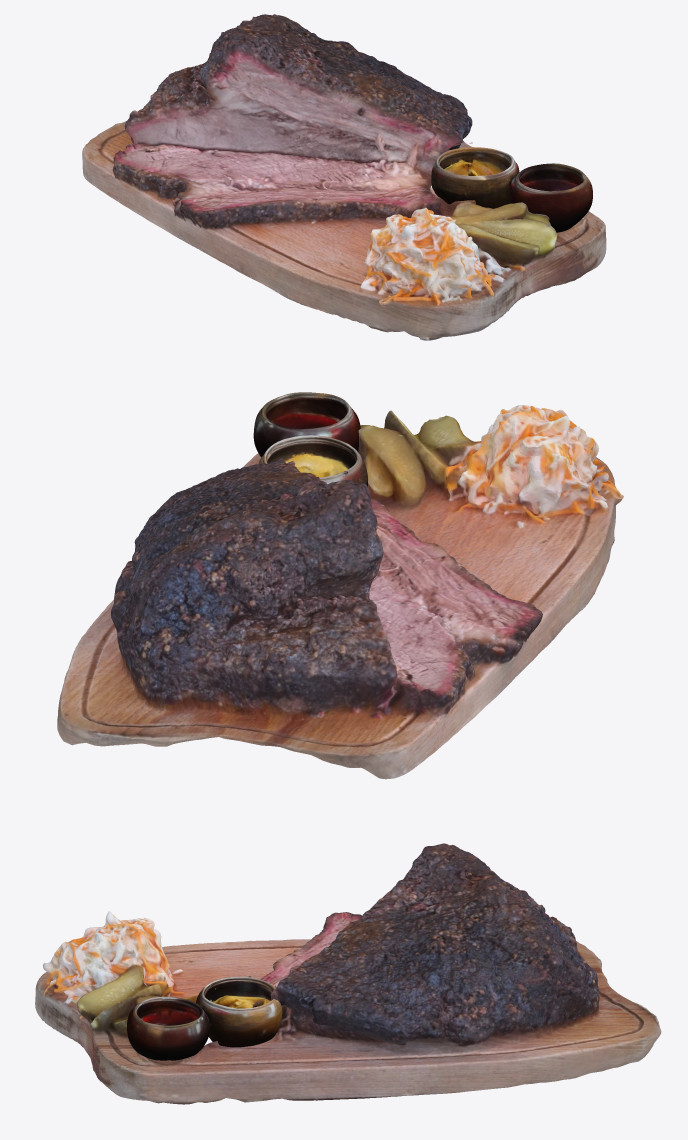
File: staike.bozorg.final.glb
3 renders of one model, top to bottom at view 1: azimuth 30°, elevation 25°; view 2: azimuth 150°, elevation 25°; view 3: azimuth 270°, elevation 25°, orthographic. The views are drawn at different scales.
Visible parts, largest first — view 1: object 1, world; view 2: object 1, world; view 3: object 1, world.
Part boxes in pixels (x1=…): object 1: x1=82, y1=14, x2=606, y2=340; world: x1=431, y1=147, x2=592, y2=232; object 1: x1=57, y1=405, x2=623, y2=779; world: x1=253, y1=392, x2=367, y2=486; object 1: x1=35, y1=843, x2=661, y2=1104; world: x1=127, y1=976, x2=282, y2=1060.
Bounding box in the file's own units: 0.2321 × 0.0914 × 0.3422.
Materials: 3 (2 with a texture image).
